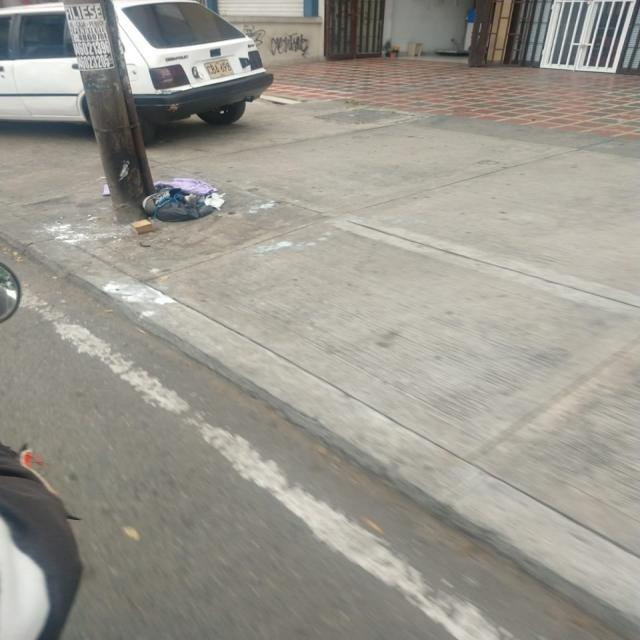Garbage_Bag: (138, 176, 226, 220)
